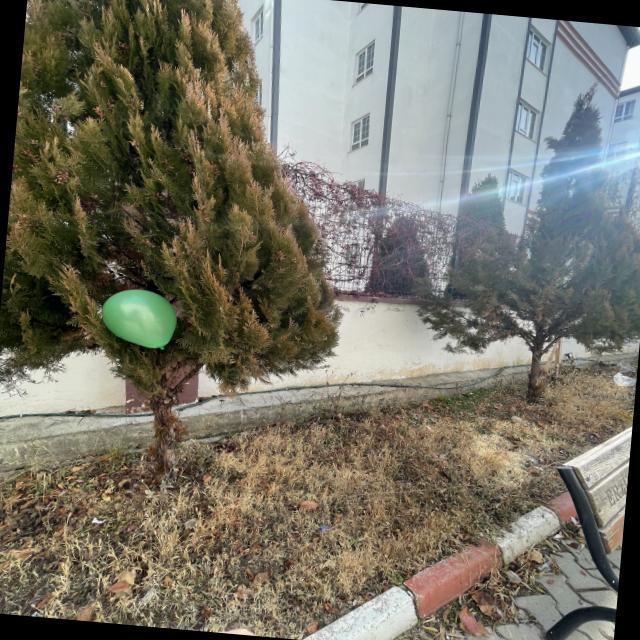balloon: (101, 289, 176, 348)
